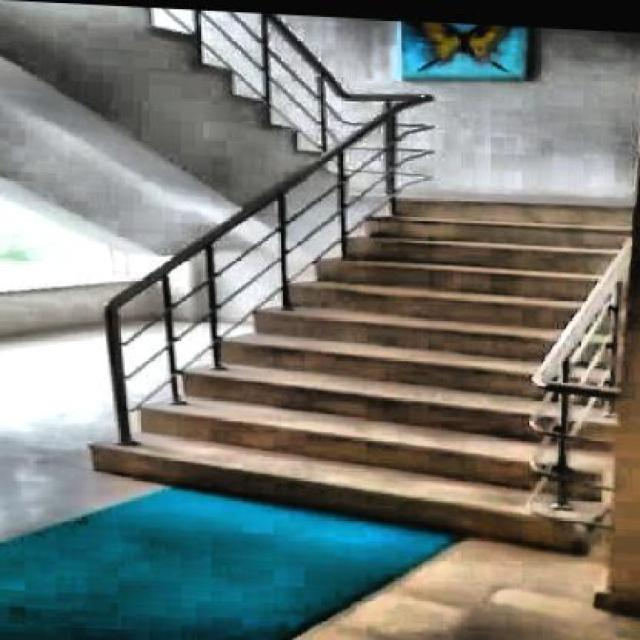stair: (96, 151, 638, 551)
